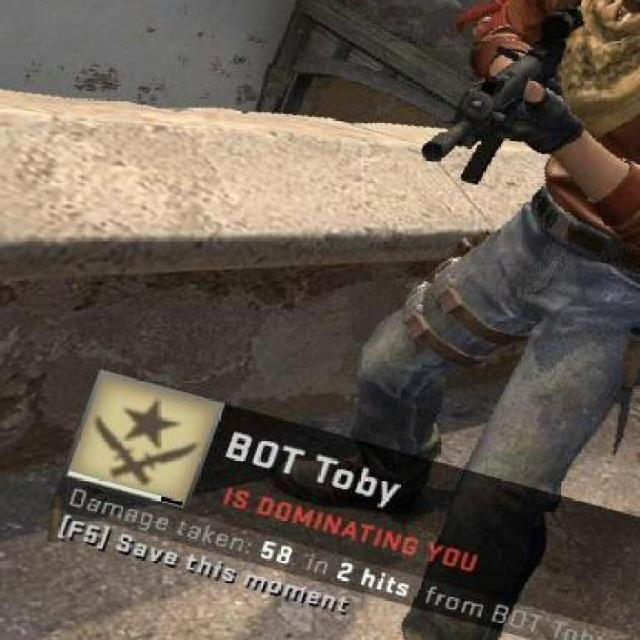T-Body: (259, 0, 638, 638)
